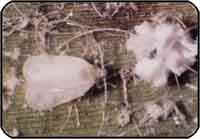whitefly: (23, 55, 105, 111)
